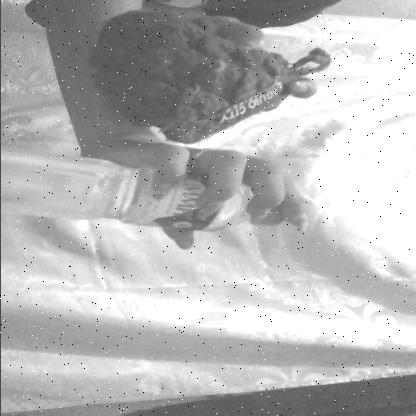Plastic Bottle: (0, 152, 321, 247)
